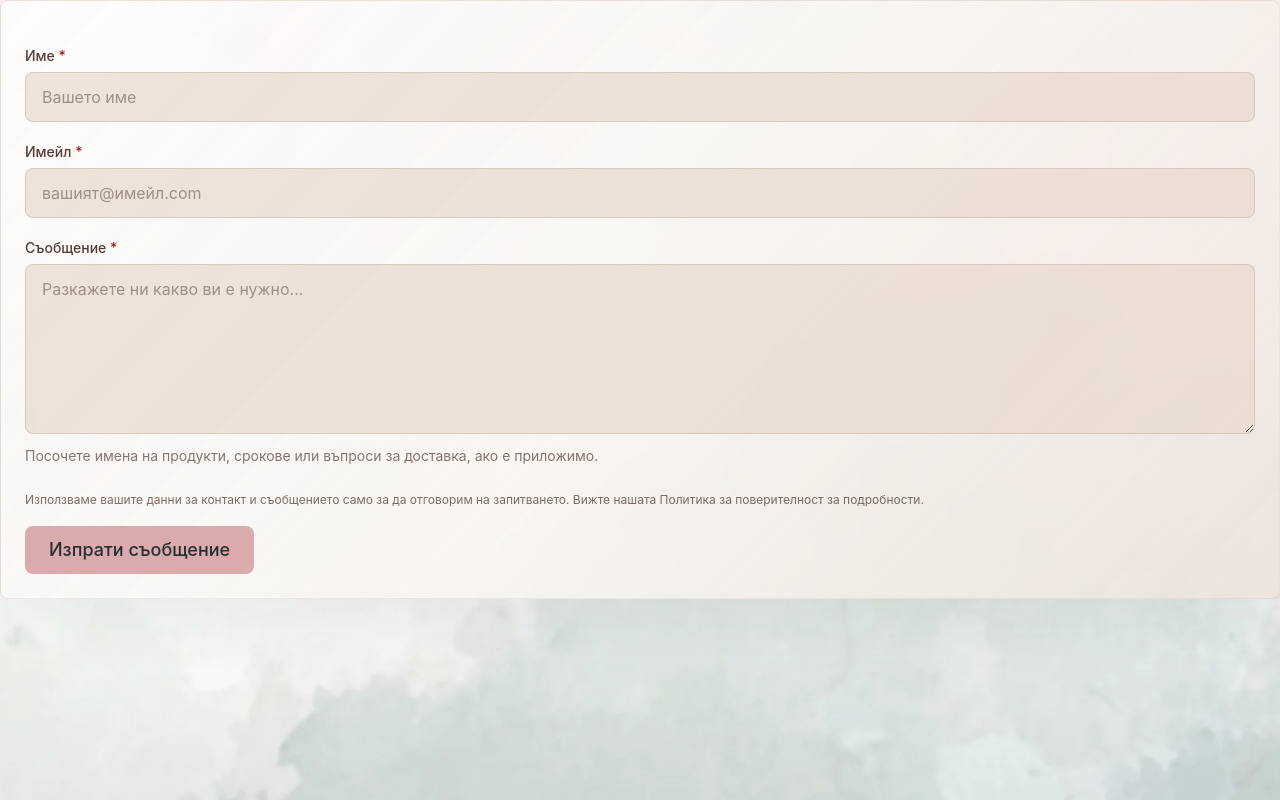
it: ContactForm translation rendering › renders Bulgarian validation errors
Click the button "Изпрати съобщение".
click(140, 550)  # box [25,526,254,574]
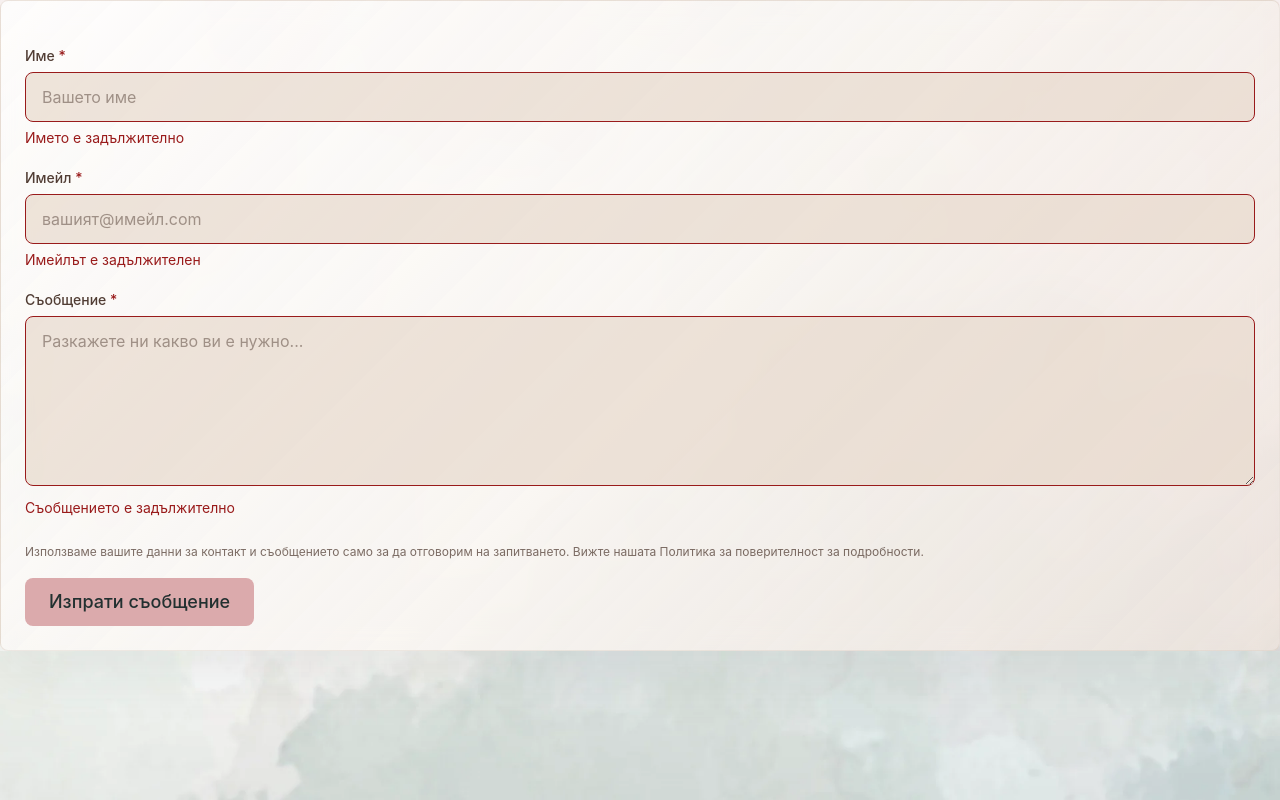
Result: the text "Името е задължително" is shown at [25,129,184,146]
Result: the text "Имейлът е задължителен" is shown at [25,251,201,268]
Result: the text "Съобщението е задължително" is shown at [25,499,235,516]
